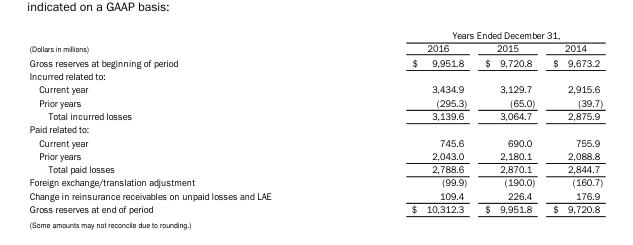table: (28, 29, 601, 214)
table column: (28, 29, 340, 214), (340, 29, 475, 214), (475, 29, 543, 214), (543, 29, 601, 214)
table column header: (28, 29, 601, 54)
table projected row header: (28, 68, 601, 82), (28, 122, 601, 135)
table row: (28, 54, 601, 68), (28, 68, 601, 82), (28, 108, 601, 122), (28, 161, 601, 175), (28, 41, 601, 54), (28, 82, 601, 95), (28, 95, 601, 108), (28, 122, 601, 135), (28, 135, 601, 148), (28, 148, 601, 161), (28, 175, 601, 188), (28, 188, 601, 201), (28, 201, 601, 214), (28, 29, 601, 41)
table spanning cell: (28, 29, 340, 54), (340, 29, 601, 41)
